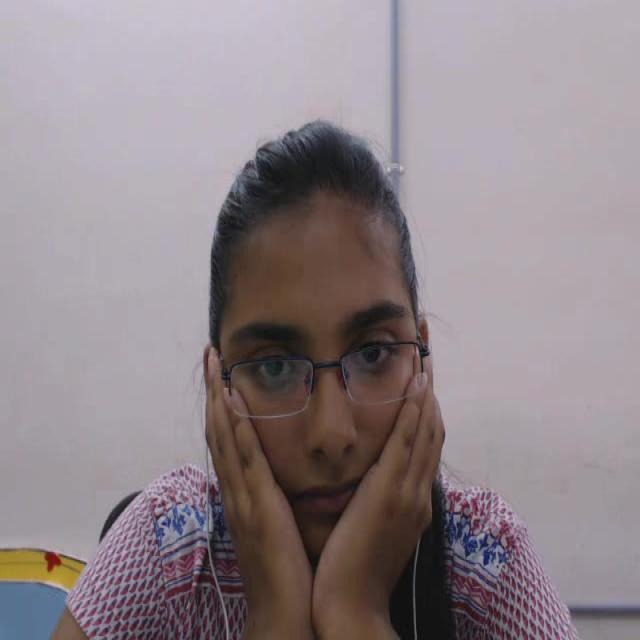Bored: (168, 94, 478, 583)
